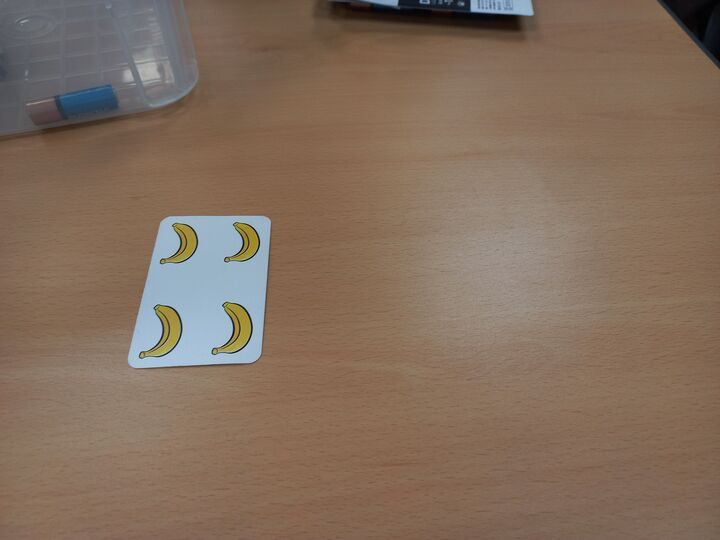banana4: (127, 214, 272, 371)
